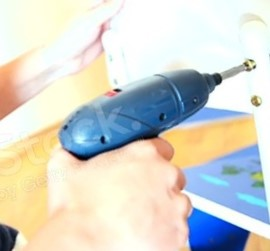driller: (53, 59, 249, 205)
